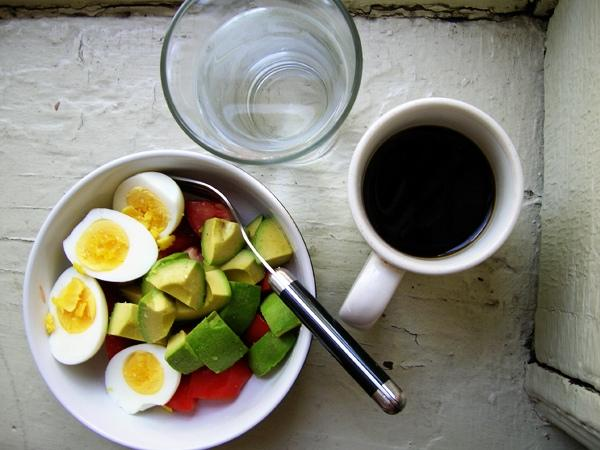avocado: (185, 310, 248, 374), (145, 259, 207, 310), (174, 269, 231, 321), (107, 302, 168, 346), (201, 218, 250, 266), (246, 330, 296, 377), (138, 286, 177, 344), (220, 282, 261, 336), (141, 252, 189, 296), (252, 218, 292, 268), (164, 329, 206, 374), (260, 292, 302, 336), (218, 249, 266, 284), (116, 285, 143, 305), (245, 215, 264, 243)
tomato: (187, 364, 253, 399), (185, 201, 236, 238), (158, 219, 202, 260), (165, 372, 199, 411), (243, 314, 271, 348), (106, 336, 128, 360), (258, 268, 277, 291)
